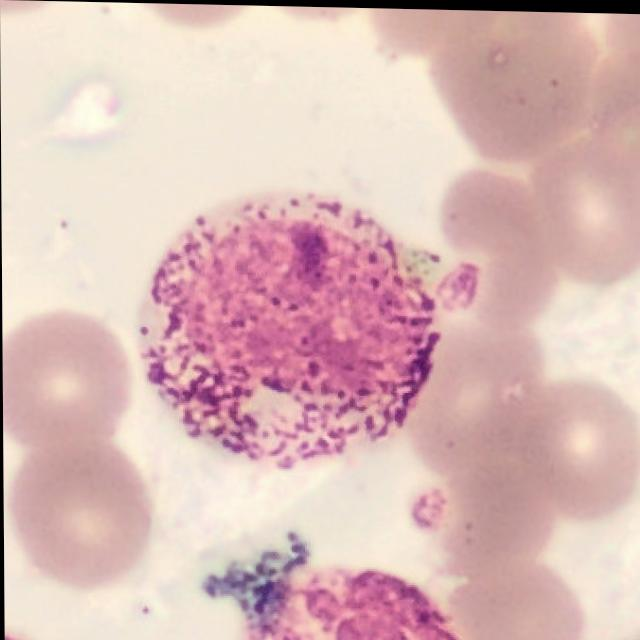Promielocito: (140, 191, 443, 468)
